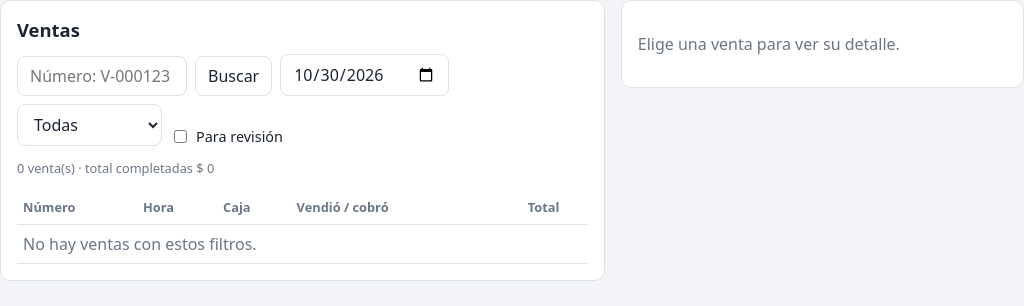
it: pantalla Ventas › busca por número
Check: the text "No hay ventas con estos filtros." is shown, box left=17, top=224, right=588, bottom=263
Type "V-000008" into the field named "Buscar por número".
click(102, 76); type("V-000008")  # box left=17, top=56, right=187, bottom=96
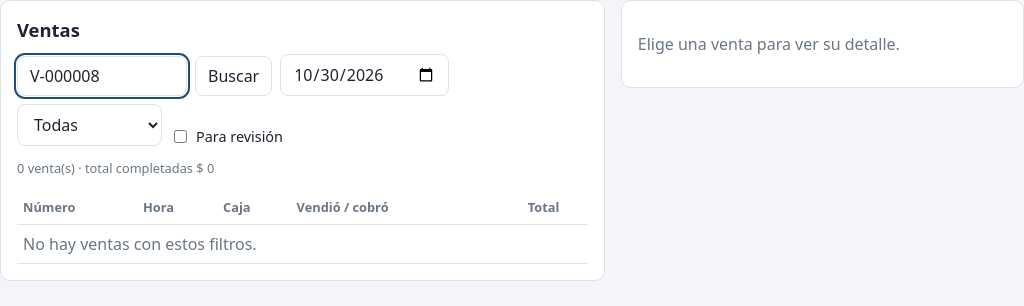
Click the button "Buscar".
click(234, 76)  # box left=195, top=56, right=272, bottom=96
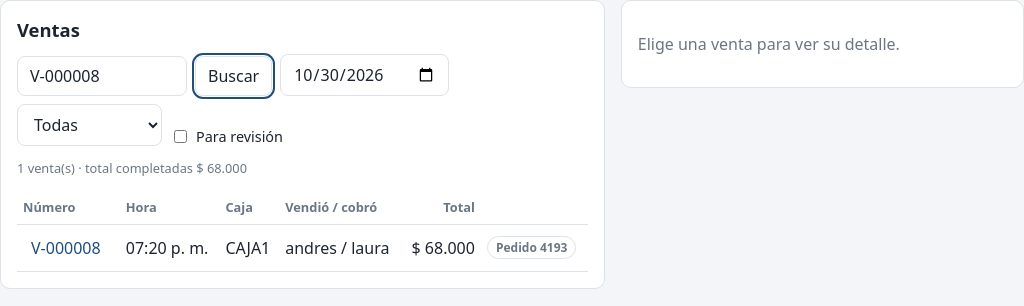
Check: the row "V-000008" is shown, box left=17, top=224, right=588, bottom=271
